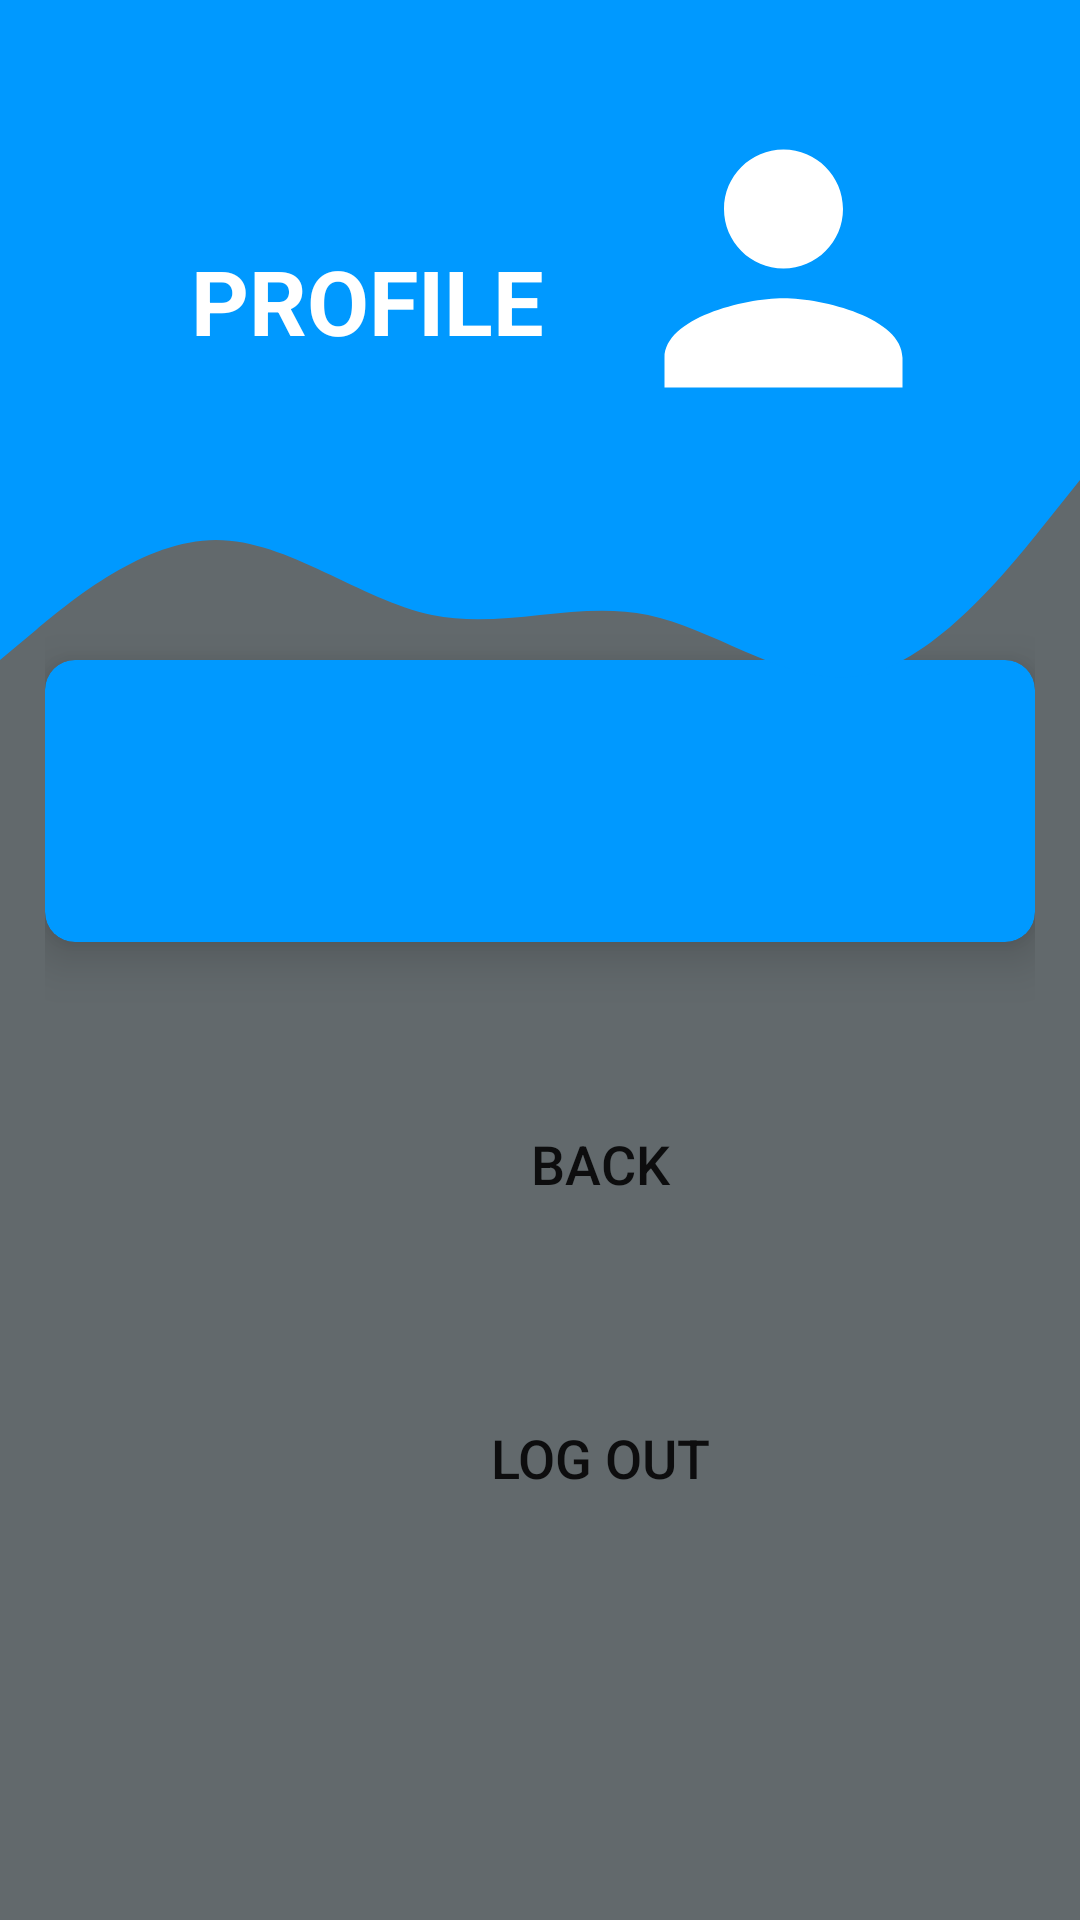

Where icons sit on this 1080*1920 app screen, as box=[x1, y1, x2, y2]:
person: box=[664, 149, 903, 388]
